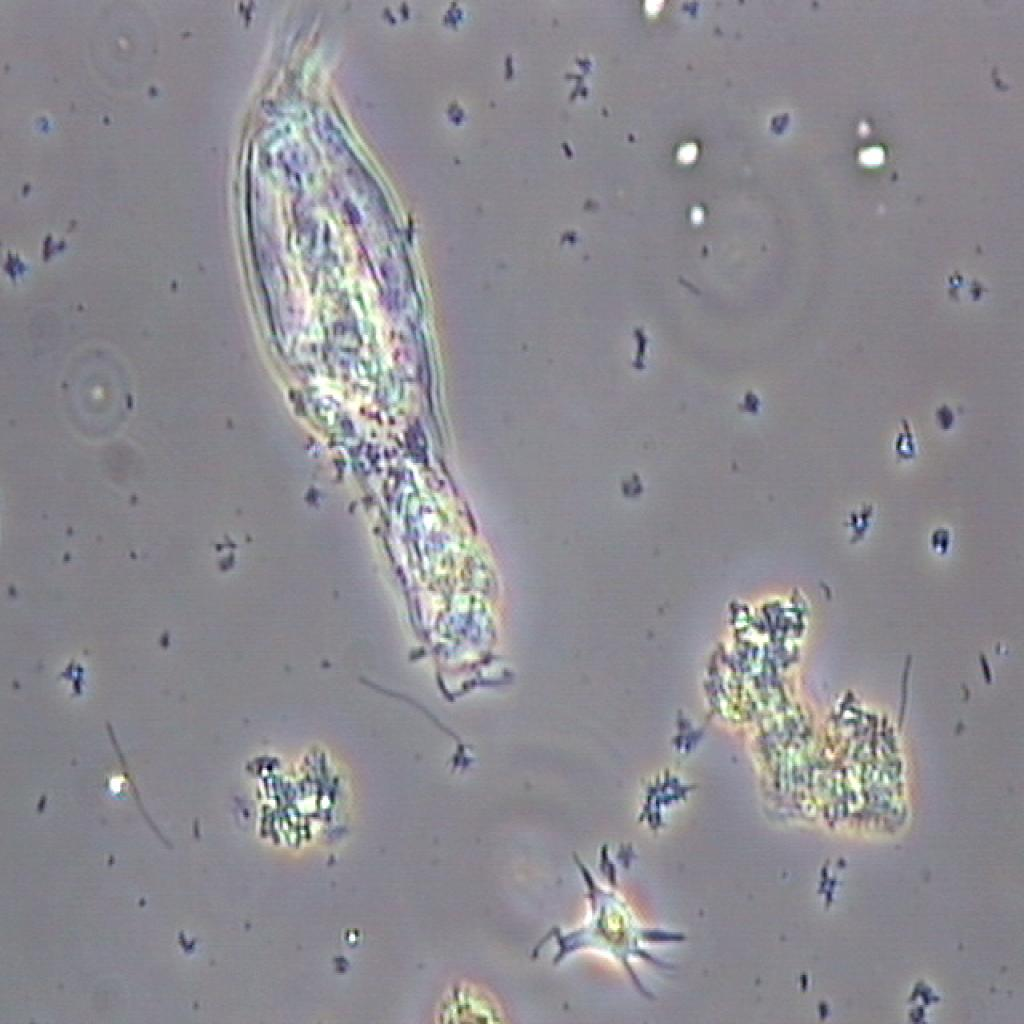Rotatoria: (203, 0, 528, 723)
